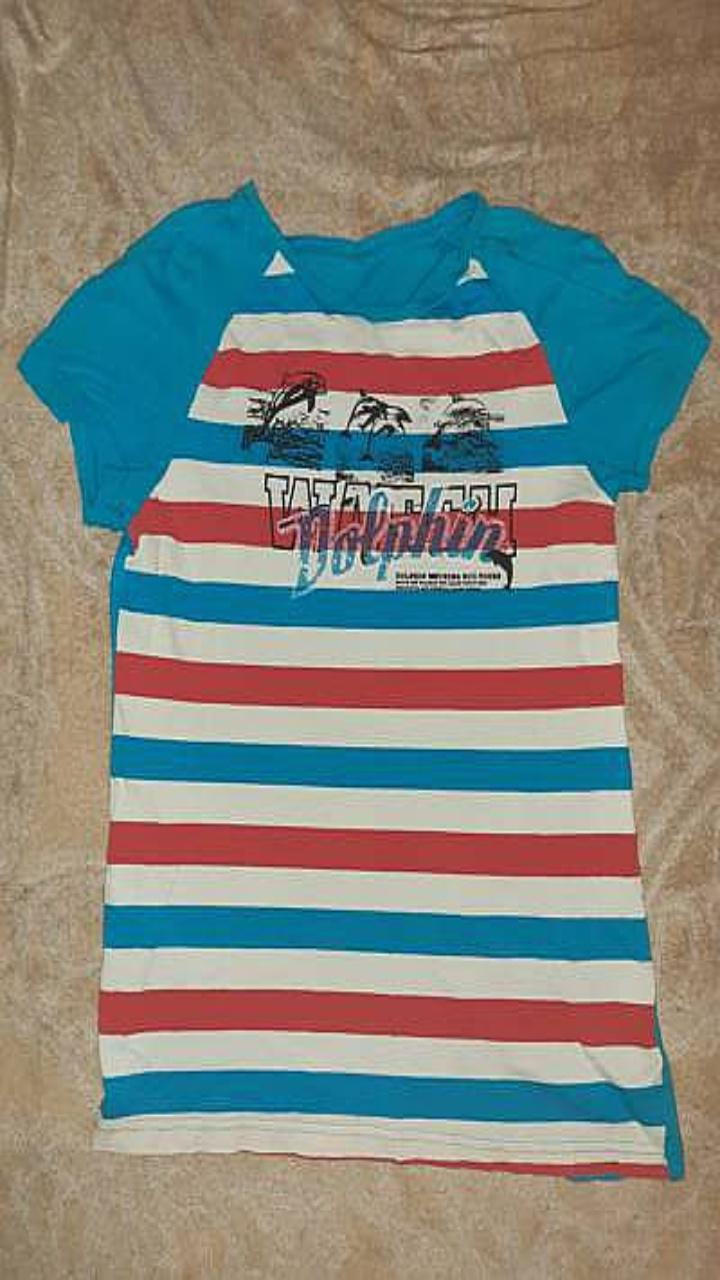T-Shirt: (18, 180, 708, 1178)
